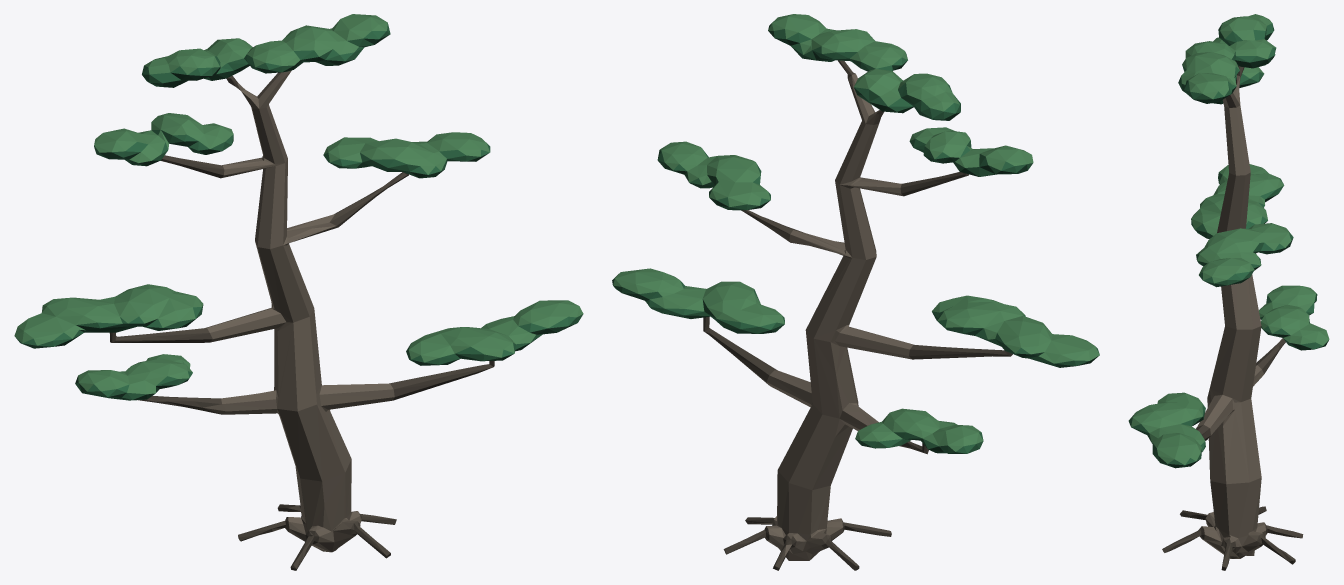
The model's file is ancient-pine-3011-lod1.glb.
3 renders of one model, left to right at view 1: azimuth 30°, elevation 25°; view 2: azimuth 150°, elevation 25°; view 3: azimuth 270°, elevation 25°, orthographic. The views are drawn at different scales.
Visible parts, largest first — view 1: n12.005, n8.005, n11.005, n9.005, n10.005; view 2: n12.005, n8.005, n11.005, n9.005, n10.005; view 3: n12.005, n8.005, n11.005, n9.005, n10.005.
Part boxes in pixels (x1=…): n12.005: x1=14, y1=14, x2=583, y2=394; n8.005: x1=203, y1=70, x2=394, y2=552; n11.005: x1=23, y1=23, x2=583, y2=399; n9.005: x1=109, y1=75, x2=494, y2=570; n10.005: x1=15, y1=35, x2=576, y2=400; n12.005: x1=613, y1=14, x2=1099, y2=451; n8.005: x1=752, y1=74, x2=913, y2=560; n11.005: x1=612, y1=23, x2=1099, y2=453; n9.005: x1=703, y1=60, x2=1012, y2=570; n10.005: x1=613, y1=38, x2=1099, y2=453; n12.005: x1=1129, y1=14, x2=1329, y2=464; n8.005: x1=1197, y1=68, x2=1265, y2=558; n11.005: x1=1128, y1=23, x2=1322, y2=465; n9.005: x1=1162, y1=65, x2=1303, y2=570; n10.005: x1=1133, y1=32, x2=1328, y2=468.
Bounding box in the file's own units: 5.59 × 5.42 × 2.02.
